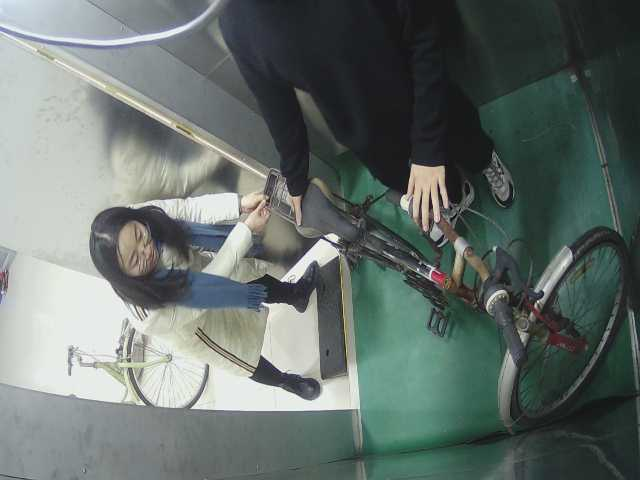bicycle: (272, 167, 629, 436), (63, 313, 217, 425)
person: (220, 1, 522, 248), (88, 199, 345, 395)
